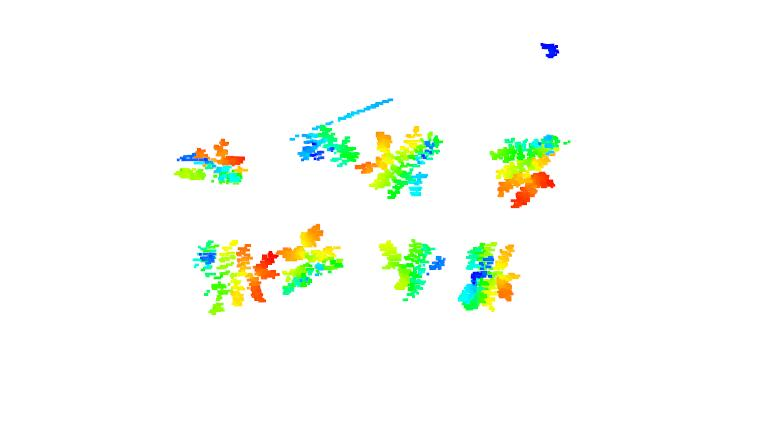chickpea: (355, 121, 444, 202), (191, 236, 279, 315), (492, 128, 564, 211), (276, 223, 347, 296), (457, 240, 524, 312), (377, 235, 449, 302), (173, 136, 247, 190), (295, 119, 361, 174)
